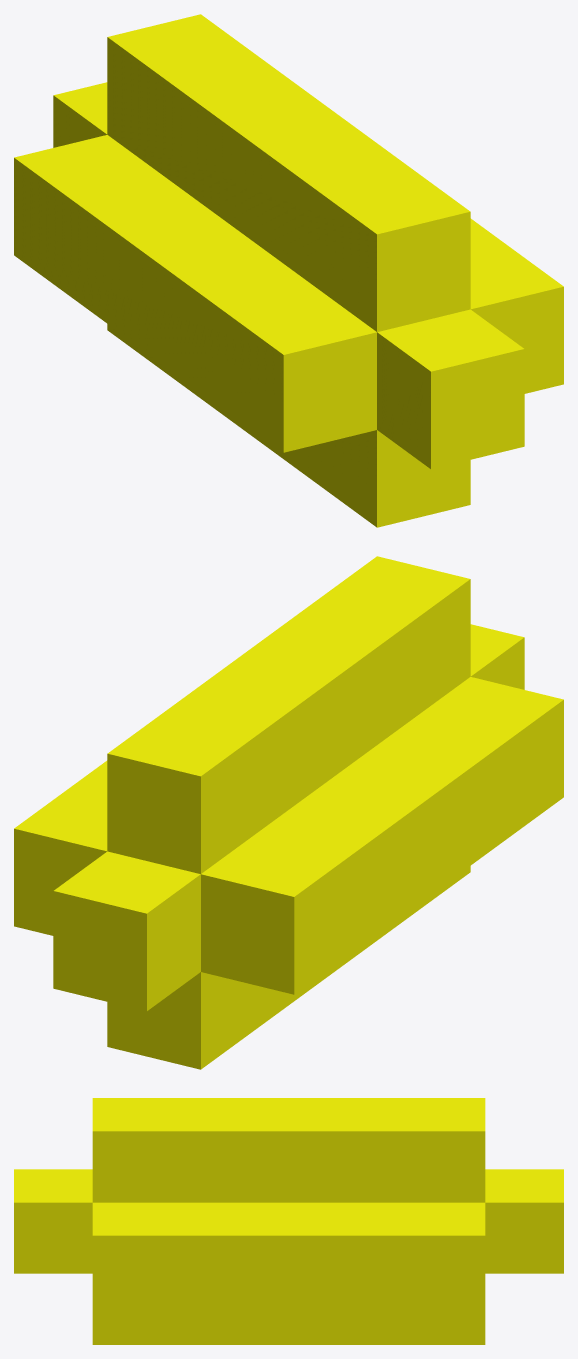
File: voxel-village-sausage.glb
3 renders of one model, top to bottom at view 1: azimuth 30°, elevation 25°; view 2: azimuth 150°, elevation 25°; view 3: azimuth 270°, elevation 25°, orthographic. The views are drawn at different scales.
Visible parts, largest first — view 1: VS_Villagers_Sausage; view 2: VS_Villagers_Sausage; view 3: VS_Villagers_Sausage.
Boxes of the visible parts, bbox=[...] form: VS_Villagers_Sausage: bbox=[14, 14, 563, 527]; VS_Villagers_Sausage: bbox=[14, 556, 563, 1069]; VS_Villagers_Sausage: bbox=[14, 1098, 563, 1344].
Bounding box in the file's own units: 0.3 × 0.3 × 0.7.
